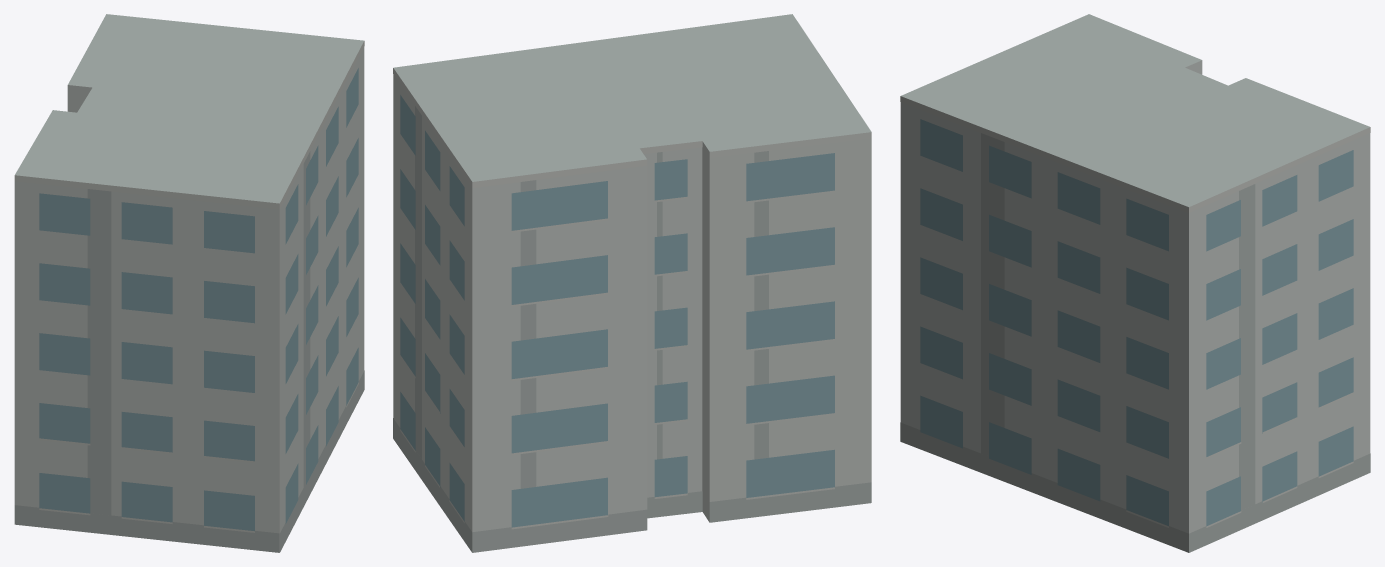
File: survey-upis-33022987.glb
3 views of the same model, side by side, from view 1: azimuth 30°, elevation 25°; view 2: azimuth 150°, elevation 25°; view 3: azimuth 270°, elevation 25° (orthographic). The views are drawn at different scales.
Parts seen in each view (by area): view 1: survey-upis-33022987.tmp; view 2: survey-upis-33022987.tmp; view 3: survey-upis-33022987.tmp.
Boxes of the visible parts, x1,y1,x2,y2 form: survey-upis-33022987.tmp: (14, 14, 364, 552); survey-upis-33022987.tmp: (393, 14, 871, 552); survey-upis-33022987.tmp: (900, 14, 1370, 552).
Size of the model in its own units: 17.27 by 14.4 by 17.75.
